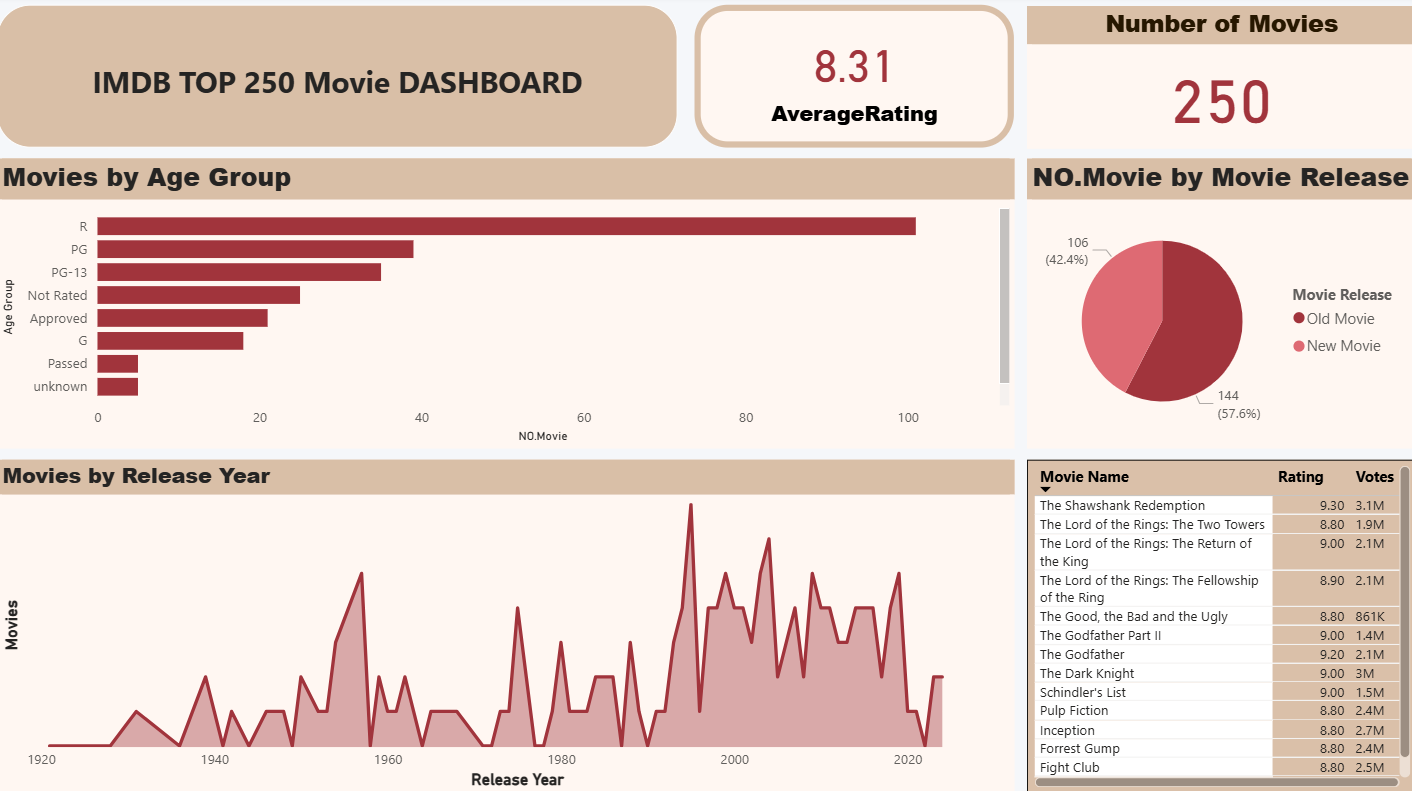

Layout of this report page (visuals, bound fields, positions):
{"tool":"powerbi","page":{"name":"Page 1","canvas":[1280,720],"ordinal":0},"visuals":[{"type":"card","title":"Number of Movies","fields":{"Values":["IMDb Top 250 movies.NO.Movie"]},"box":[929.1,9.3,351.2,129.1],"z":0},{"type":"lineChart","title":"Movies by Release Year","fields":{"Y":["IMDb Top 250 movies.NO.Movie"],"Category":["IMDb Top 250 movies.Release Year"]},"box":[0,418.2,917.5,302.1],"z":1000},{"type":"pieChart","fields":{"Y":["IMDb Top 250 movies.NO.Movie"],"Category":["IMDb Top 250 movies.Movie Release"]},"box":[929.1,146.5,351.2,261.6],"z":2000},{"type":"barChart","title":"Movies by Age Group","fields":{"Y":["IMDb Top 250 movies.NO.Movie"],"Category":["IMDb Top 250 movies.Age Group"]},"box":[0,146.5,917.4,261.6],"z":3000},{"type":"card","fields":{"Values":["IMDb Top 250 movies.AverageRating"]},"box":[629.1,8.1,288.4,129.1],"z":4000},{"type":"textbox","box":[0,8.1,614,129.1],"z":5000},{"type":"tableEx","fields":{"Values":["IMDb Top 250 movies.Movie Name","IMDb Top 250 movies.Rating","IMDb Top 250 movies.Votes"]},"box":[928.6,418.6,351.4,301.4],"z":6000}]}

Visuals, with their boxes in screenshot pixels (x1, y1, x2, y2), scaled from the page's 1280x720 canvas onto the 1412x791 screenshot:
"Number of Movies" card: box(1025, 10, 1411, 152)
"Movies by Release Year" lineChart: box(0, 459, 1012, 790)
pieChart - IMDb Top 250 movies.NO.Movie x IMDb Top 250 movies.Movie Release: box(1025, 161, 1411, 448)
"Movies by Age Group" barChart: box(0, 161, 1012, 448)
card - IMDb Top 250 movies.AverageRating: box(694, 9, 1012, 151)
textbox: box(0, 9, 677, 151)
tableEx - IMDb Top 250 movies.Movie Name x IMDb Top 250 movies.Rating: box(1024, 460, 1411, 790)
